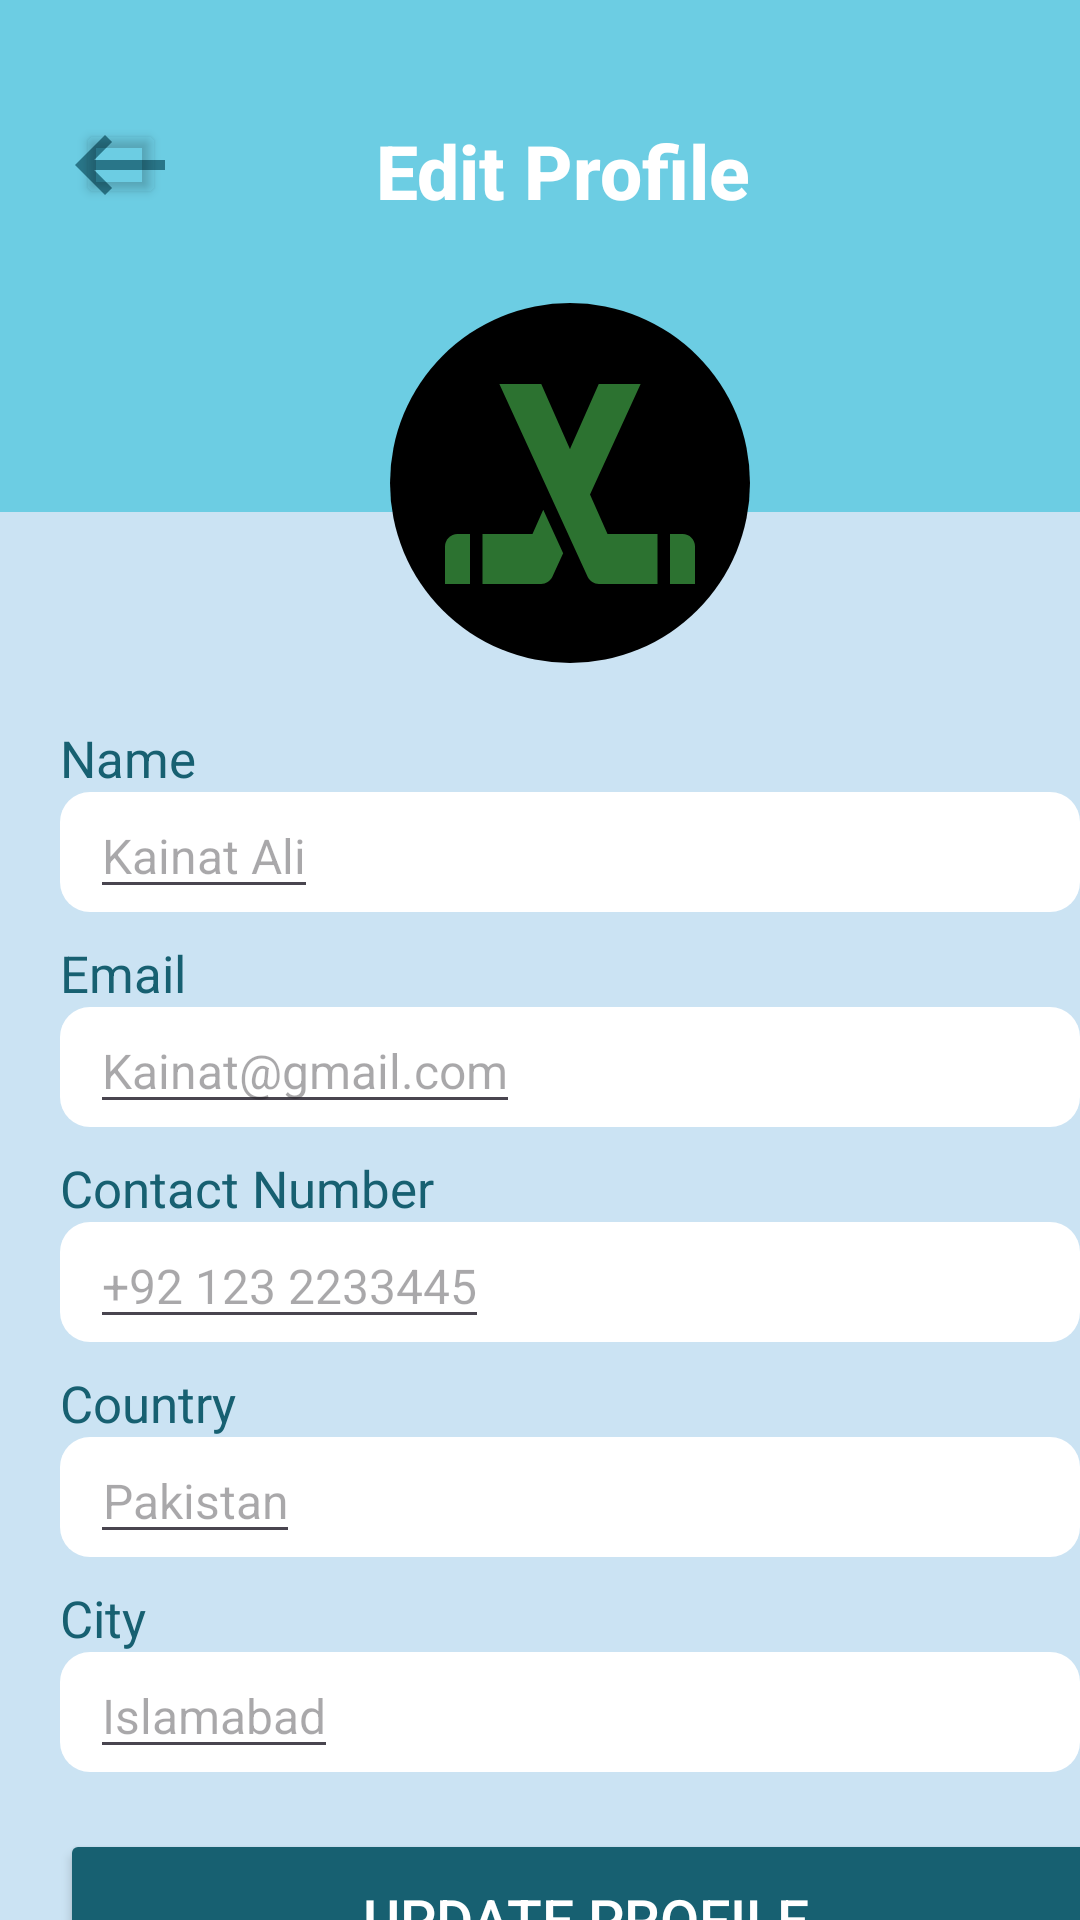

Icons on this 1080px x 1920px Android screen, each with the point to tap as [x,y]:
back: [120,165]
